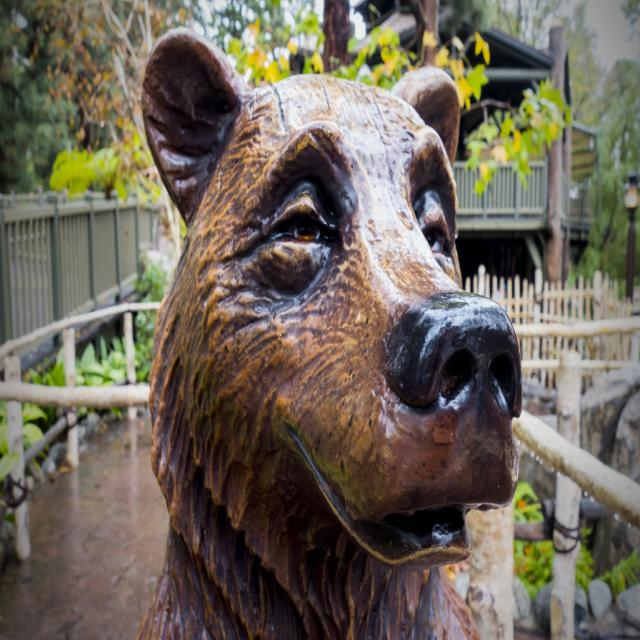Bear: (132, 26, 523, 639)
